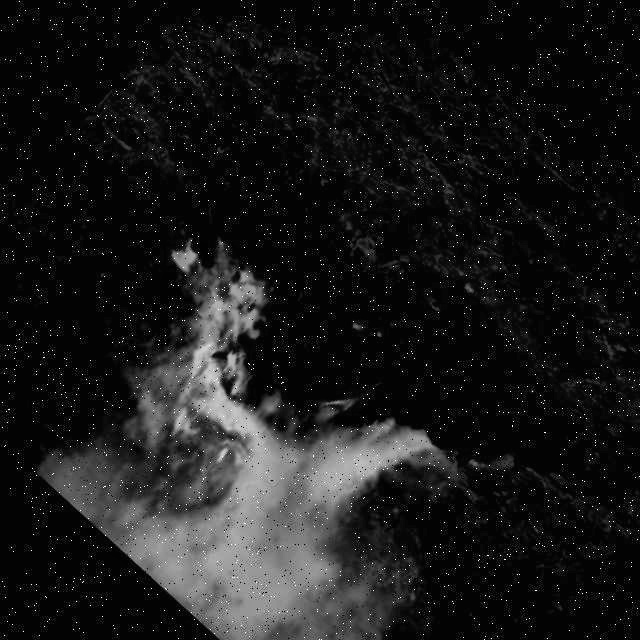Fire: (119, 247, 346, 485), (291, 336, 389, 438), (140, 206, 222, 293)
Smoke: (23, 236, 576, 640)
